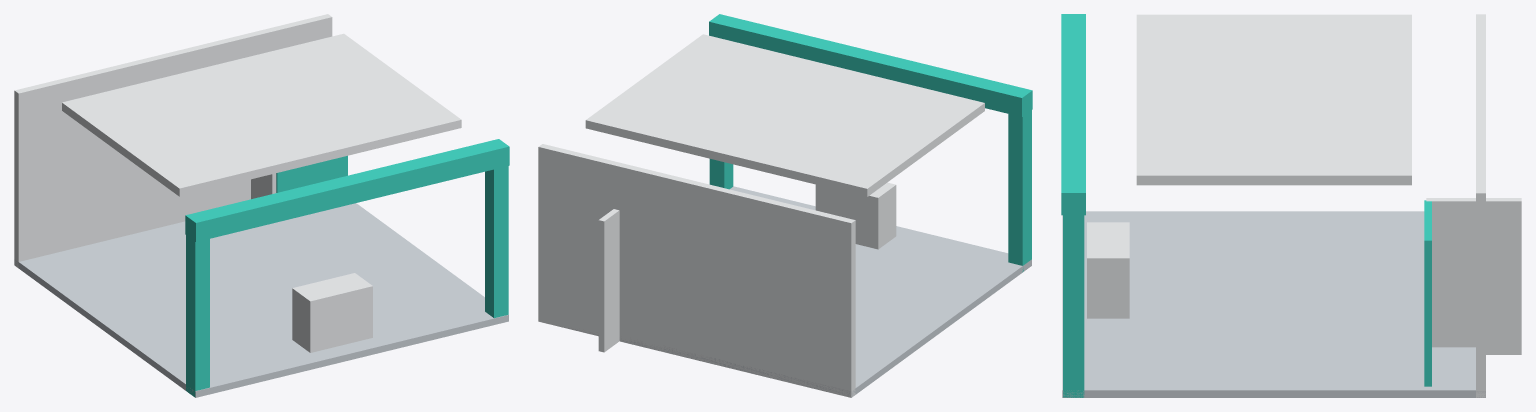
3 views of the same model, side by side, from view 1: azimuth 30°, elevation 25°; view 2: azimuth 150°, elevation 25°; view 3: azimuth 270°, elevation 25° (orthographic). The views are drawn at different scales.
Parts seen in each view (by area): view 1: Exhibition Booth Concept; view 2: Exhibition Booth Concept; view 3: Exhibition Booth Concept.
Part boxes in pixels (x1=…): Exhibition Booth Concept: x1=14, y1=14, x2=509, y2=397; Exhibition Booth Concept: x1=538, y1=14, x2=1032, y2=397; Exhibition Booth Concept: x1=1061, y1=14, x2=1521, y2=397.
Bounding box in the file's own units: 6 × 3.34 × 6.52.
